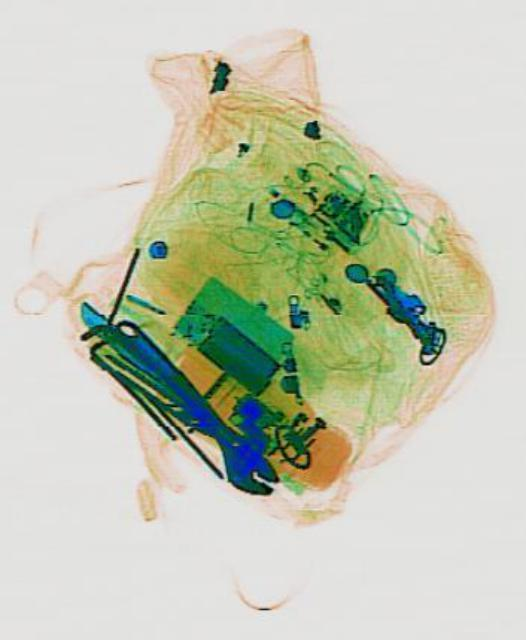Wrench: (98, 303, 284, 509)
